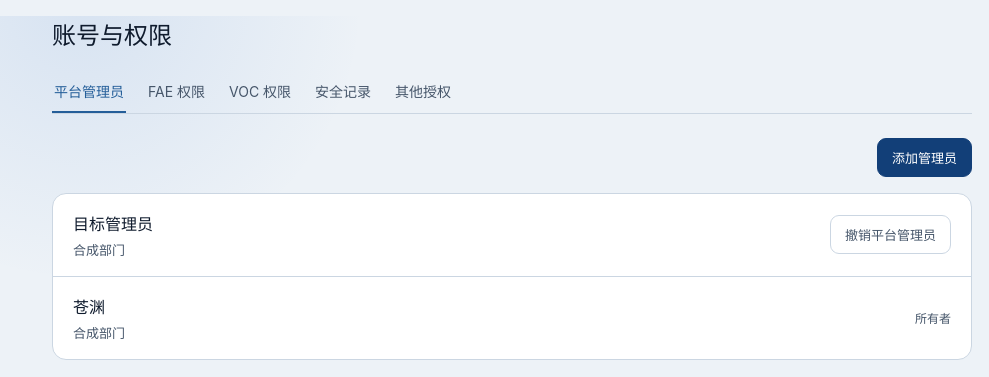
it: IdentityManagementPage › reconciles indeterminate administrator revocation with the identical operation ID and refreshed role
The width and height of the screenshot is (989, 377).
Click the button "撤销平台管理员" at {"x": 890, "y": 235}, box [830,215,951,254]
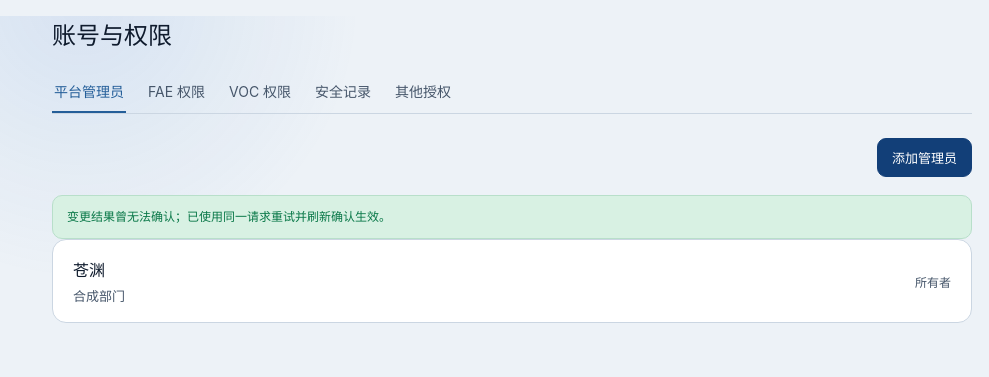
Expected: the text "变更结果曾无法确认；已使用同一请求重试并刷新确认生效。" is shown, [52,195,972,239]
Expected: the text "目标管理员" is gone
